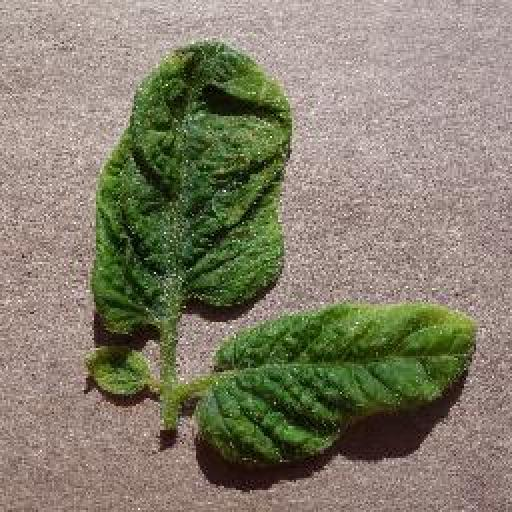Yellow Leaf Curl Virus: (89, 37, 292, 336), (196, 300, 477, 468), (79, 347, 153, 397)
